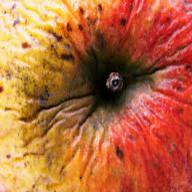apple: (13, 12, 174, 178)
